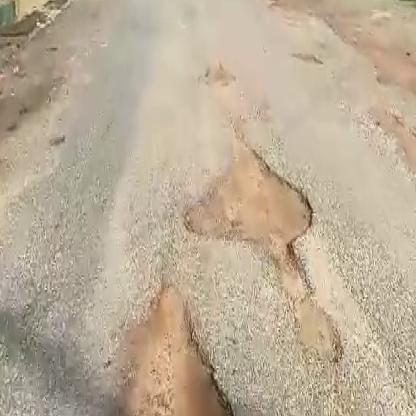pothole: (74, 286, 283, 416), (178, 144, 323, 257)
